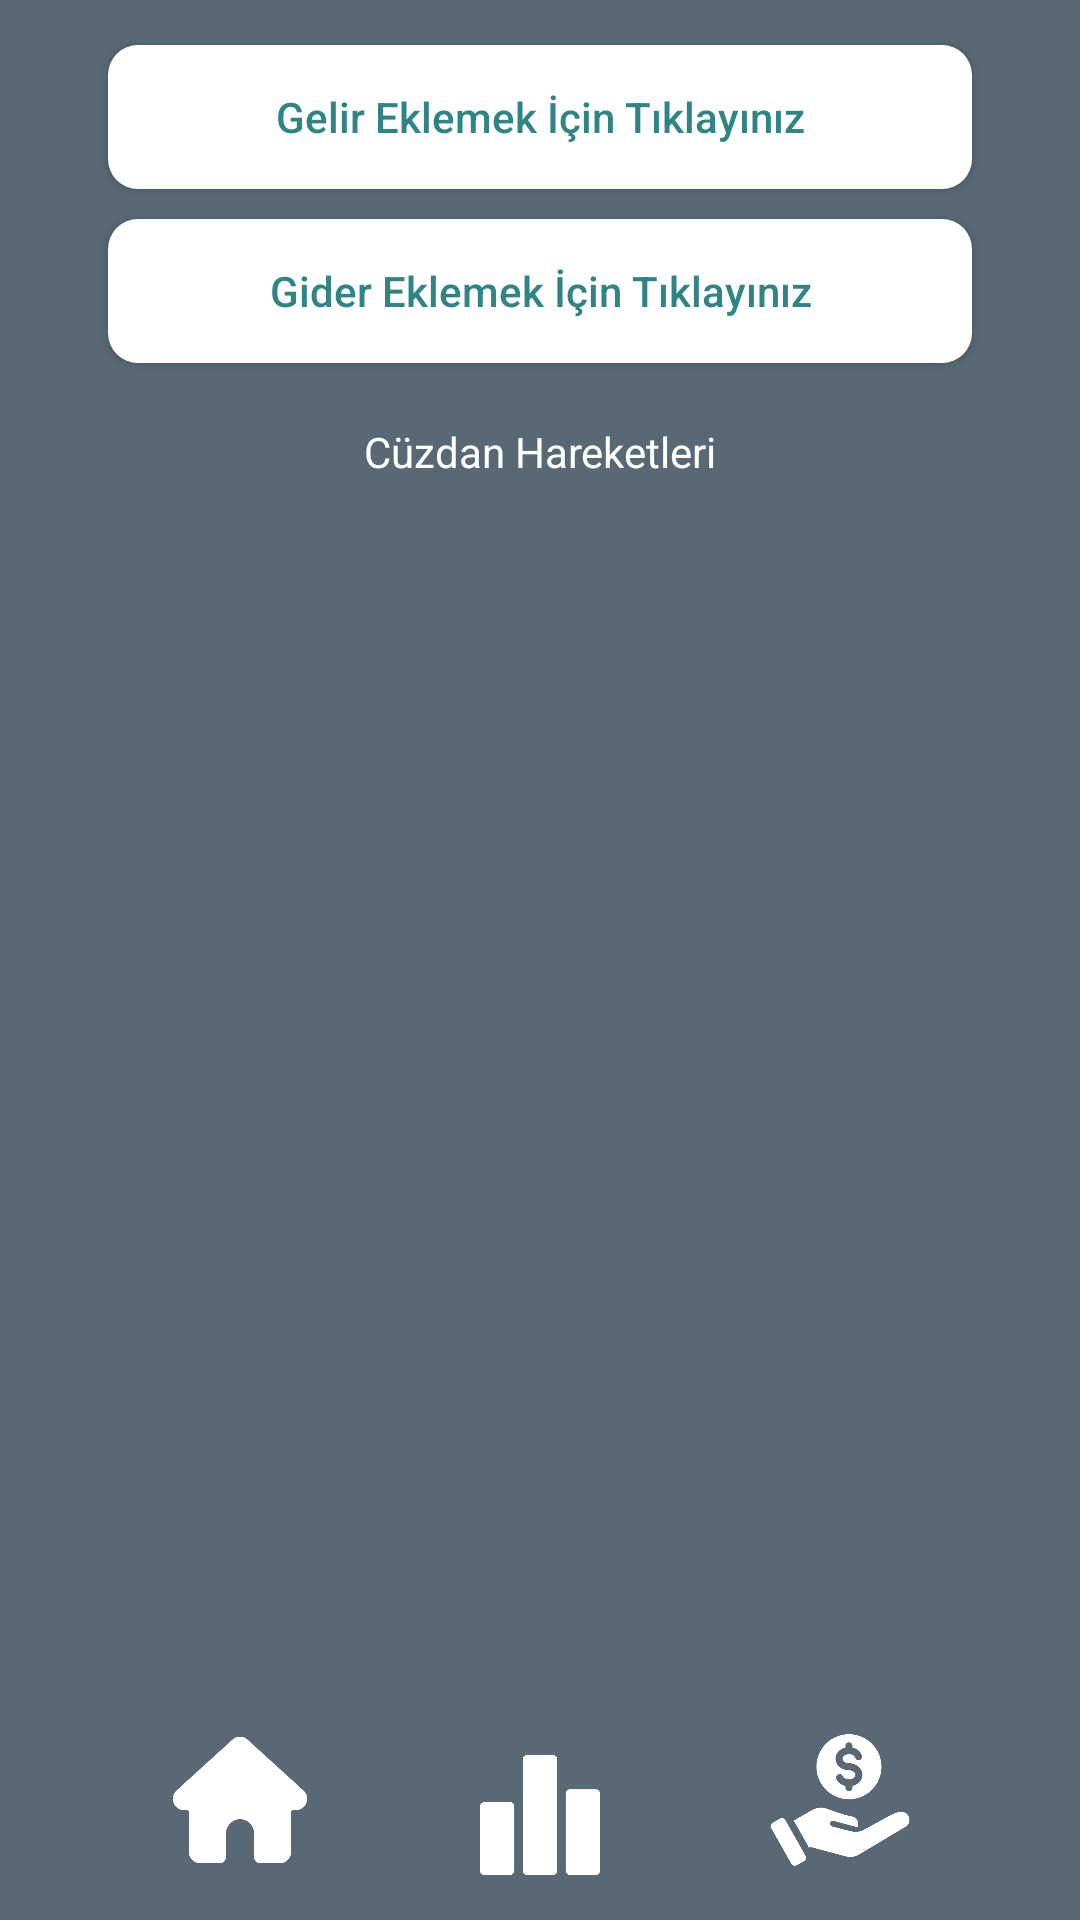

Screen size 1080px×1920px. Icon name, then its box in pixels as (x1, y1, x2, y2):
home: (173, 1737, 307, 1863)
saving: (770, 1734, 910, 1866)
statistics: (480, 1755, 600, 1875)
